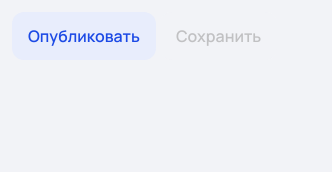
Test: ScheduleActions: публикация › публикует график и меняет подпись кнопки
Click the button "Опубликовать" at (84, 36), box [12,12,156,60]
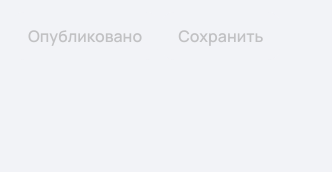
Now the button "Опубликовано" is disabled, box [12,12,158,60]
